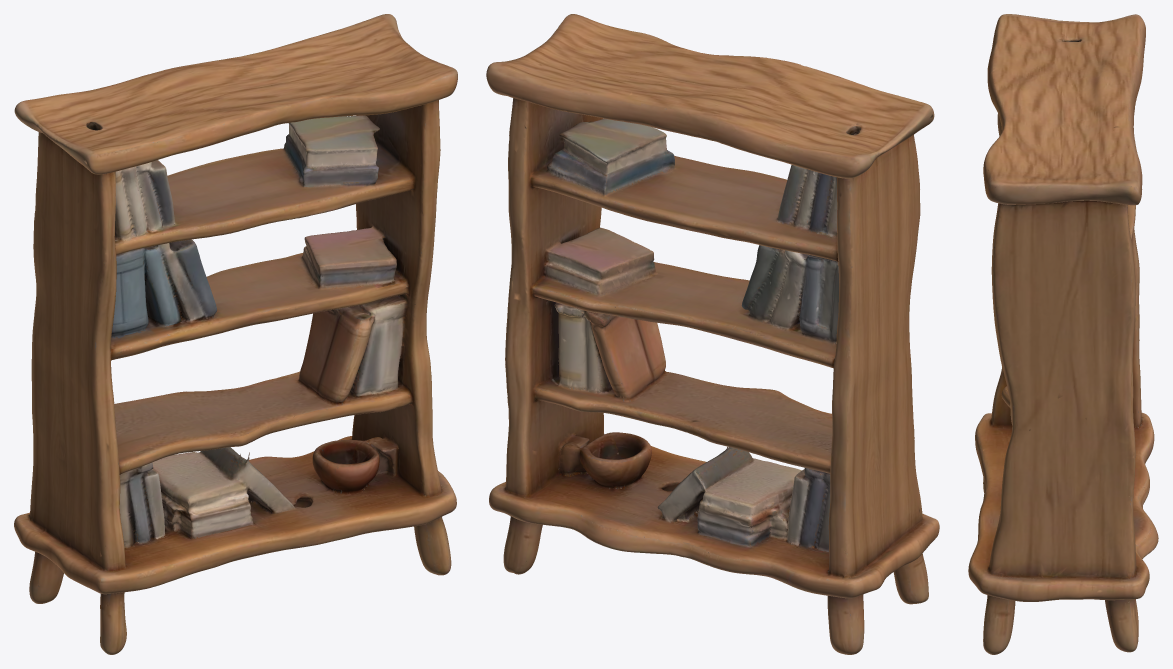
File: bookcase.glb
The picture shows the model from 3 angles, left to right: view 1: azimuth 30°, elevation 25°; view 2: azimuth 150°, elevation 25°; view 3: azimuth 270°, elevation 25°; orthographic projection. The views are drawn at different scales.
Size of the model in its own units: 1.57 by 2 by 0.7132.
Materials: 1 (1 with a texture image).
